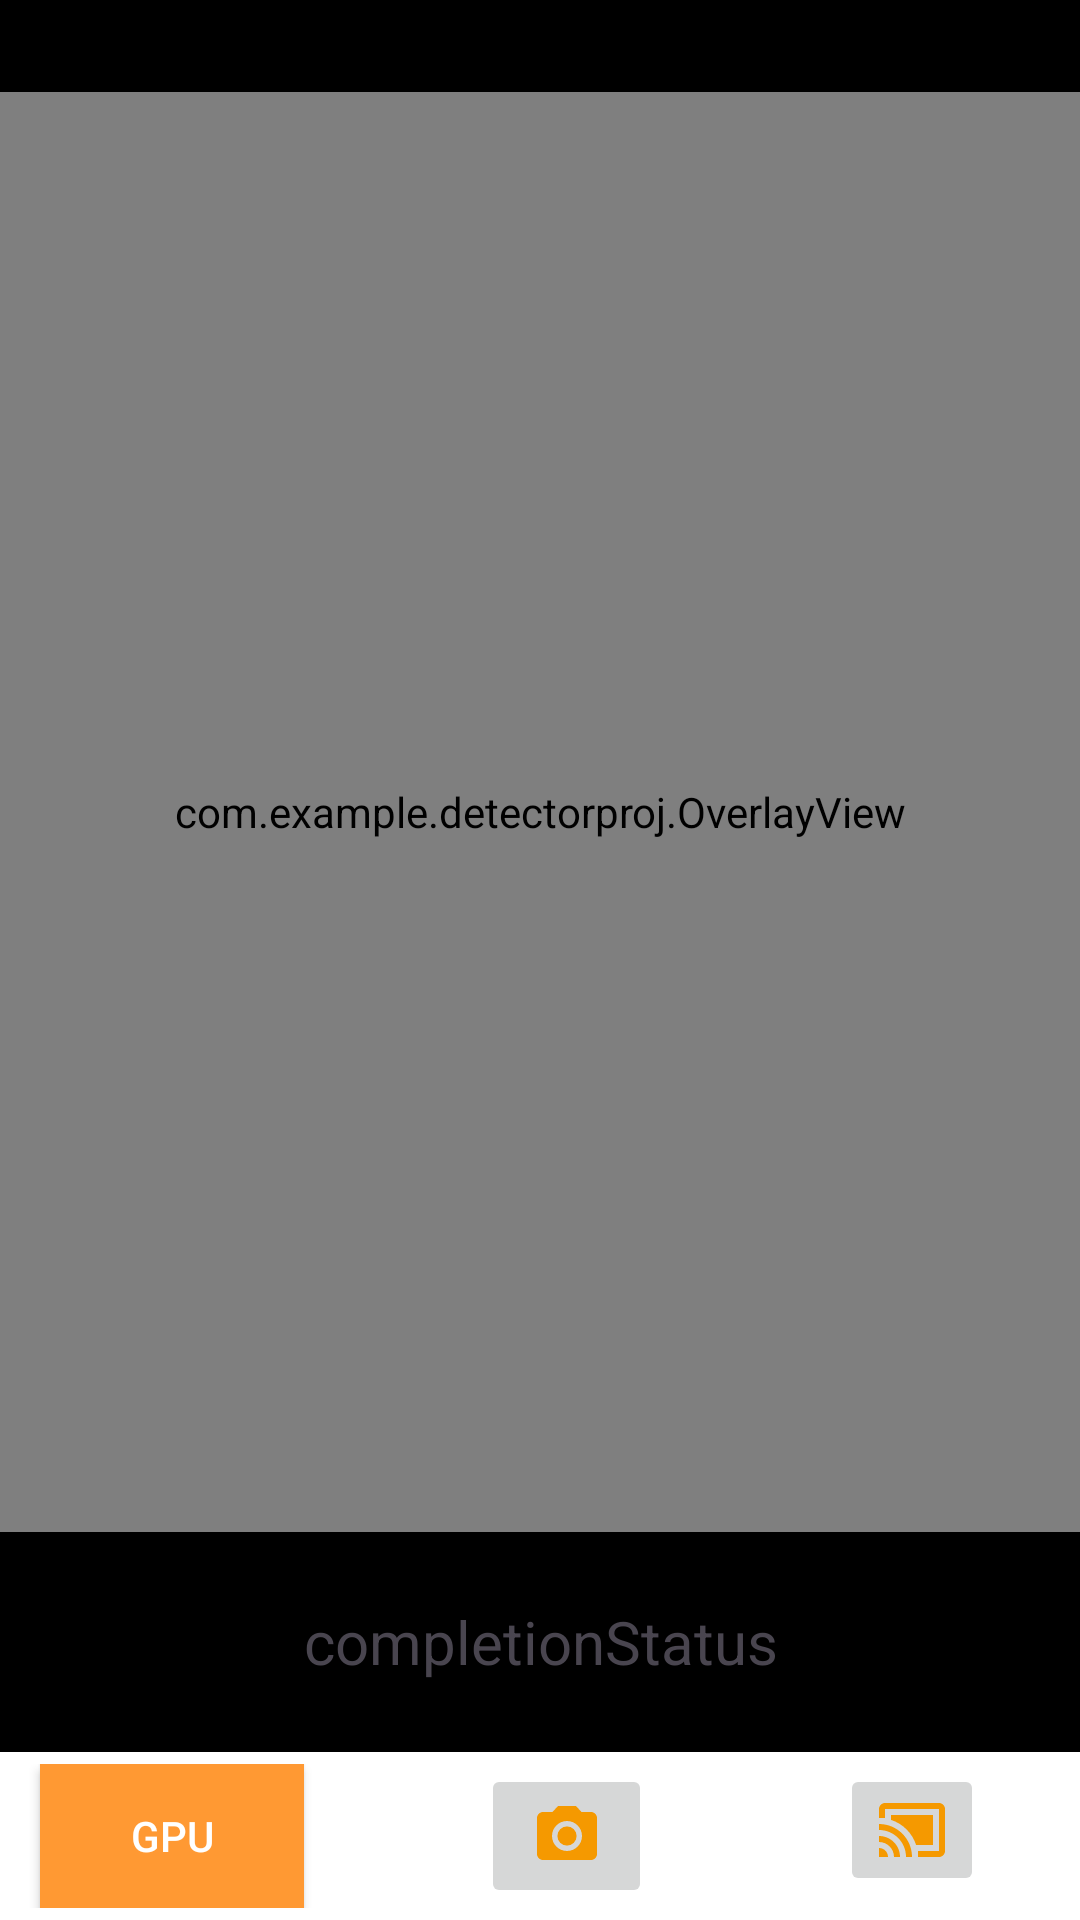

Point at icon controls on the screen. Image size 1080px x 1920px, points as (x,y).
cast connected: (912,1830)
photo camera: (566,1836)
